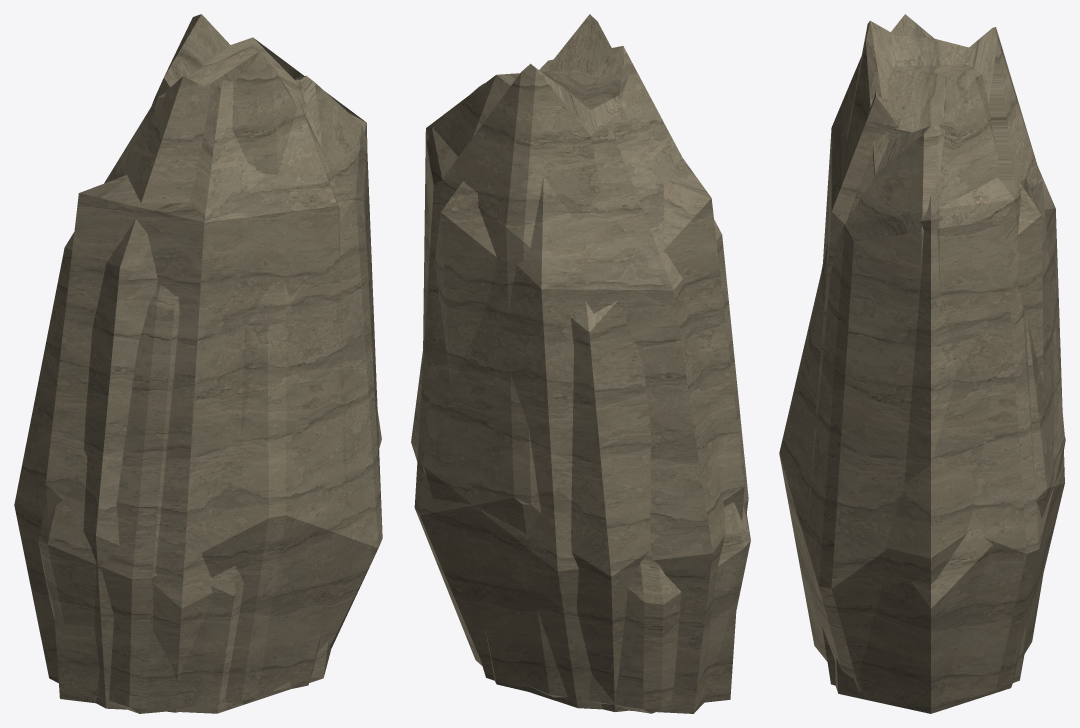
Rendered from env_rock_slab_a_v001.glb.
3 views of the same model, side by side, from view 1: azimuth 30°, elevation 25°; view 2: azimuth 150°, elevation 25°; view 3: azimuth 270°, elevation 25° (orthographic). The views are drawn at different scales.
Parts seen in each view (by area): view 1: env_rock_slab_a_LOD0_mesh, env_rock_slab_a_LOD2_mesh, env_rock_slab_a_LOD1_mesh; view 2: env_rock_slab_a_LOD1_mesh, env_rock_slab_a_LOD0_mesh, env_rock_slab_a_LOD2_mesh; view 3: env_rock_slab_a_LOD0_mesh, env_rock_slab_a_LOD1_mesh, env_rock_slab_a_LOD2_mesh.
Boxes of the visible parts, x1,y1,x2,y2 form: env_rock_slab_a_LOD0_mesh: [38, 14, 382, 713]; env_rock_slab_a_LOD2_mesh: [45, 79, 381, 712]; env_rock_slab_a_LOD1_mesh: [14, 37, 367, 713]; env_rock_slab_a_LOD1_mesh: [423, 64, 748, 713]; env_rock_slab_a_LOD0_mesh: [414, 14, 750, 713]; env_rock_slab_a_LOD2_mesh: [411, 46, 744, 711]; env_rock_slab_a_LOD0_mesh: [779, 20, 1065, 701]; env_rock_slab_a_LOD1_mesh: [835, 14, 1064, 713]; env_rock_slab_a_LOD2_mesh: [807, 56, 1043, 685].
Bounding box in the file's own units: 1.7 × 3 × 1.2.
3 materials, 3 textured.
